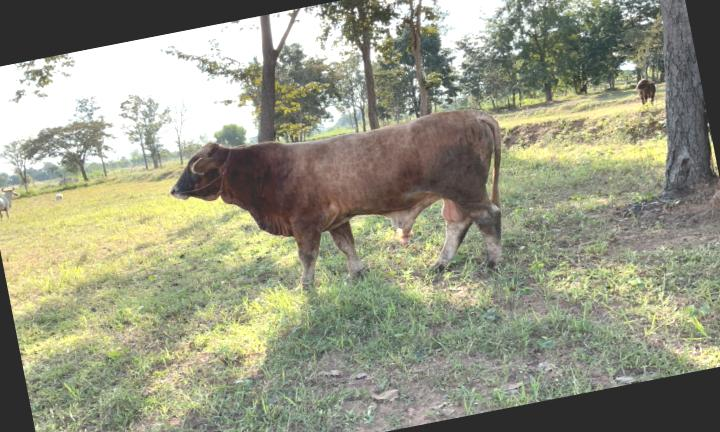Charolais: (171, 109, 501, 283)
